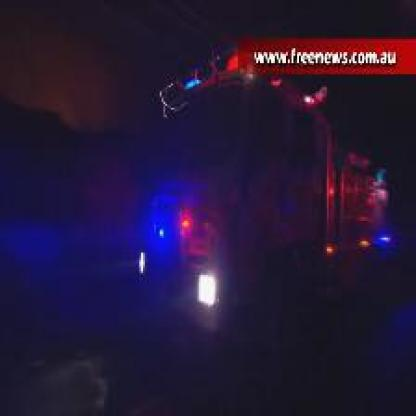other: (168, 200, 214, 247), (190, 264, 223, 327), (321, 234, 335, 257), (354, 231, 368, 253)
